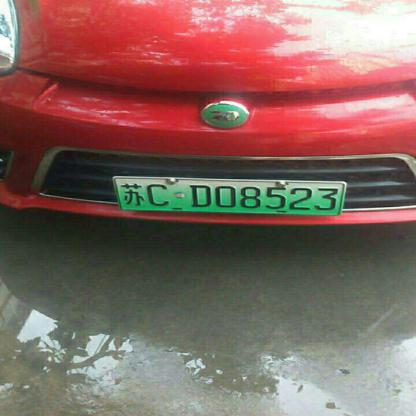lp: (115, 179, 344, 213)
